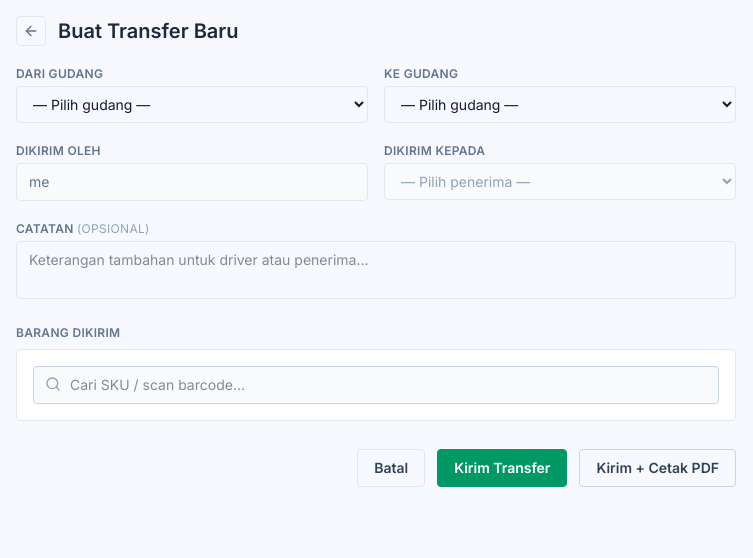
WarehouseTransferCreateScreen › F5-12: submit buttons disabled and error shown when FROM = TO (handleFromChange swap)
Select "Gudang Bawah" in the dropdown labelled "Ke Gudang". click: (560, 104)
box: x1=384 y1=86 x2=736 y2=123
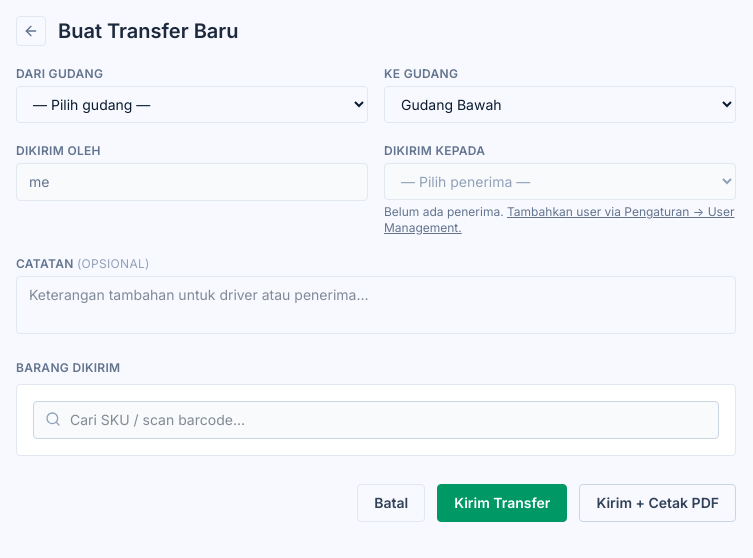
Select "Gudang Bawah" in the dropdown labelled "Dari Gudang". click: (192, 104)
box: x1=16 y1=86 x2=368 y2=123
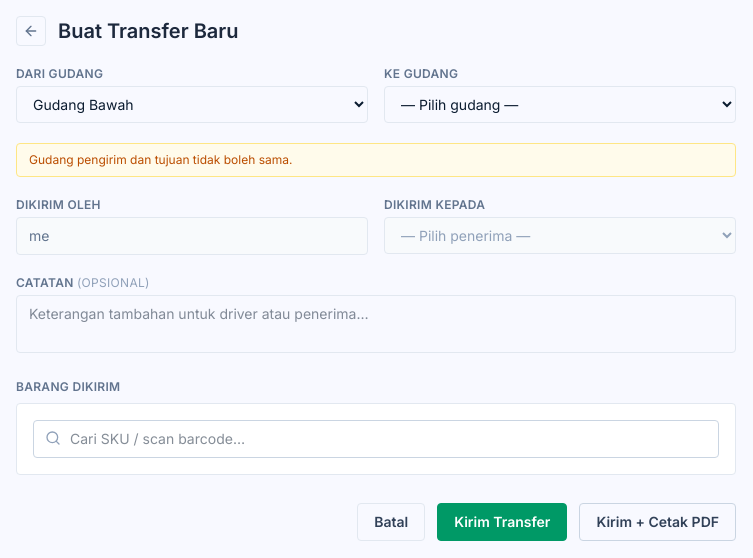
Expected: the text "Gudang pengirim dan tujuan tidak boleh sama." is shown, x1=16 y1=143 x2=736 y2=177
